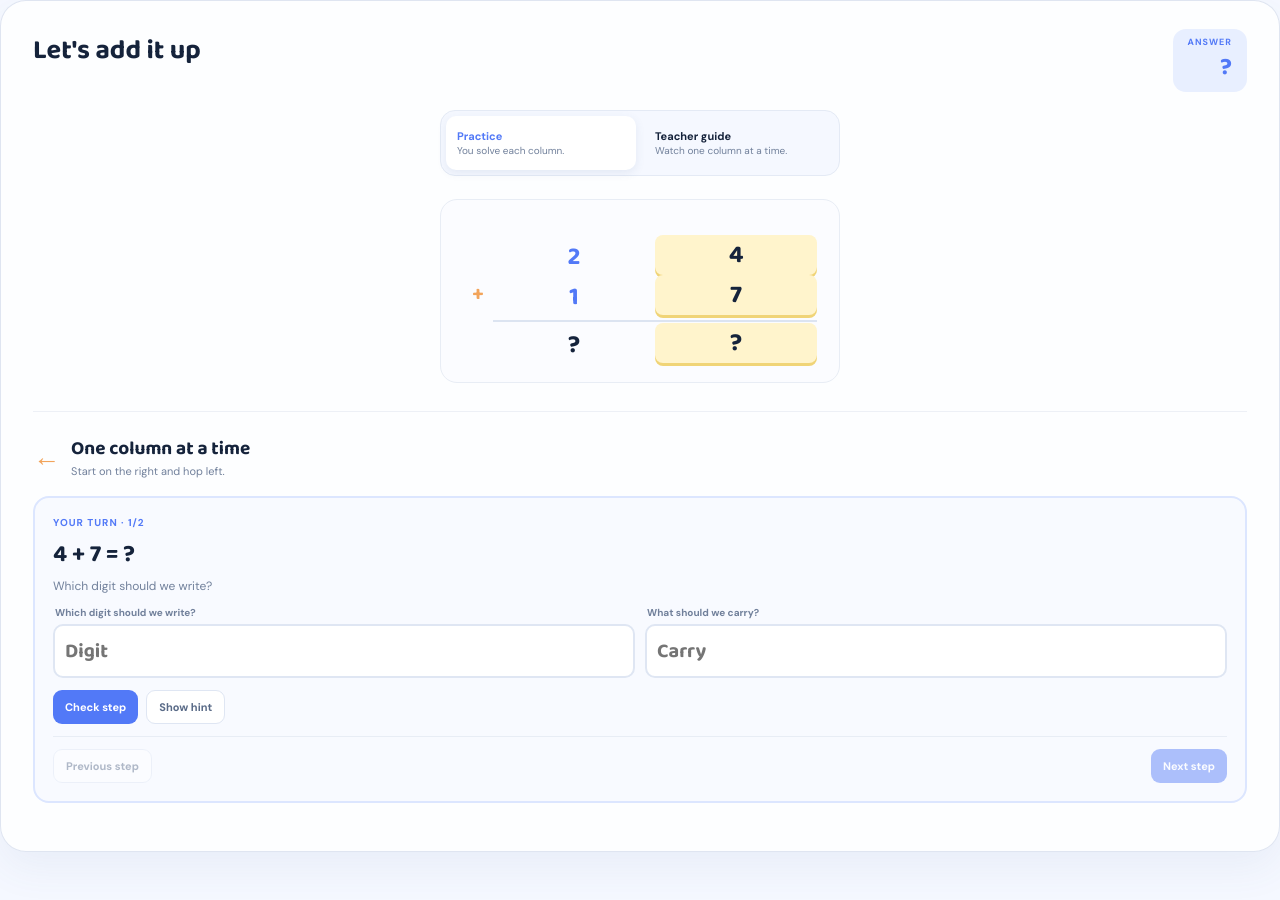
ResultPanel guided flow › can reveal the answer and complete the exercise
What coordinates should you click on to do the following:
click the button "Show hint"
I would click on:
 (186, 707)
Its box is [146,690,225,724].
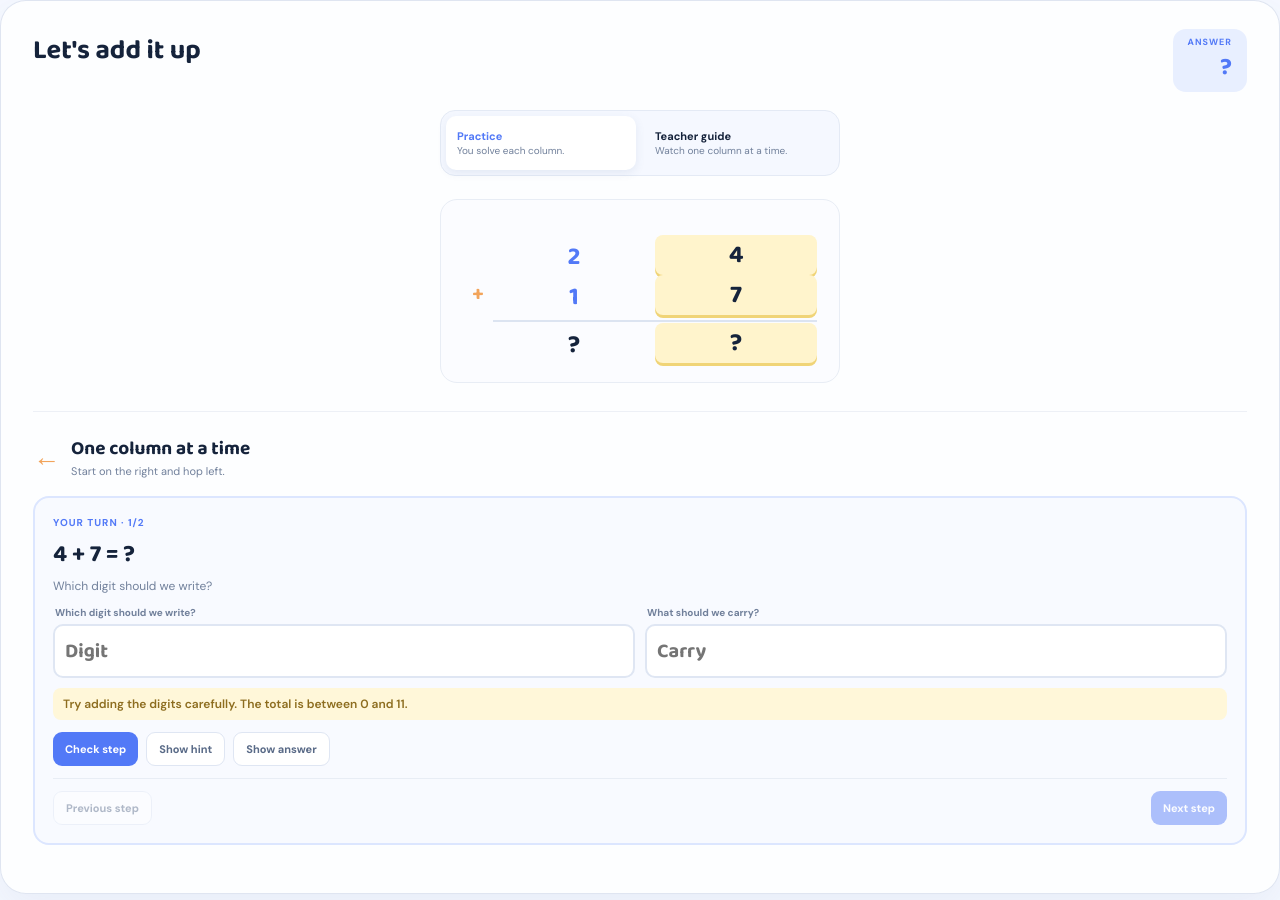
What coordinates should you click on to do the following:
click the button "Show answer"
I would click on:
 (281, 749)
Its box is [233,732,330,766].
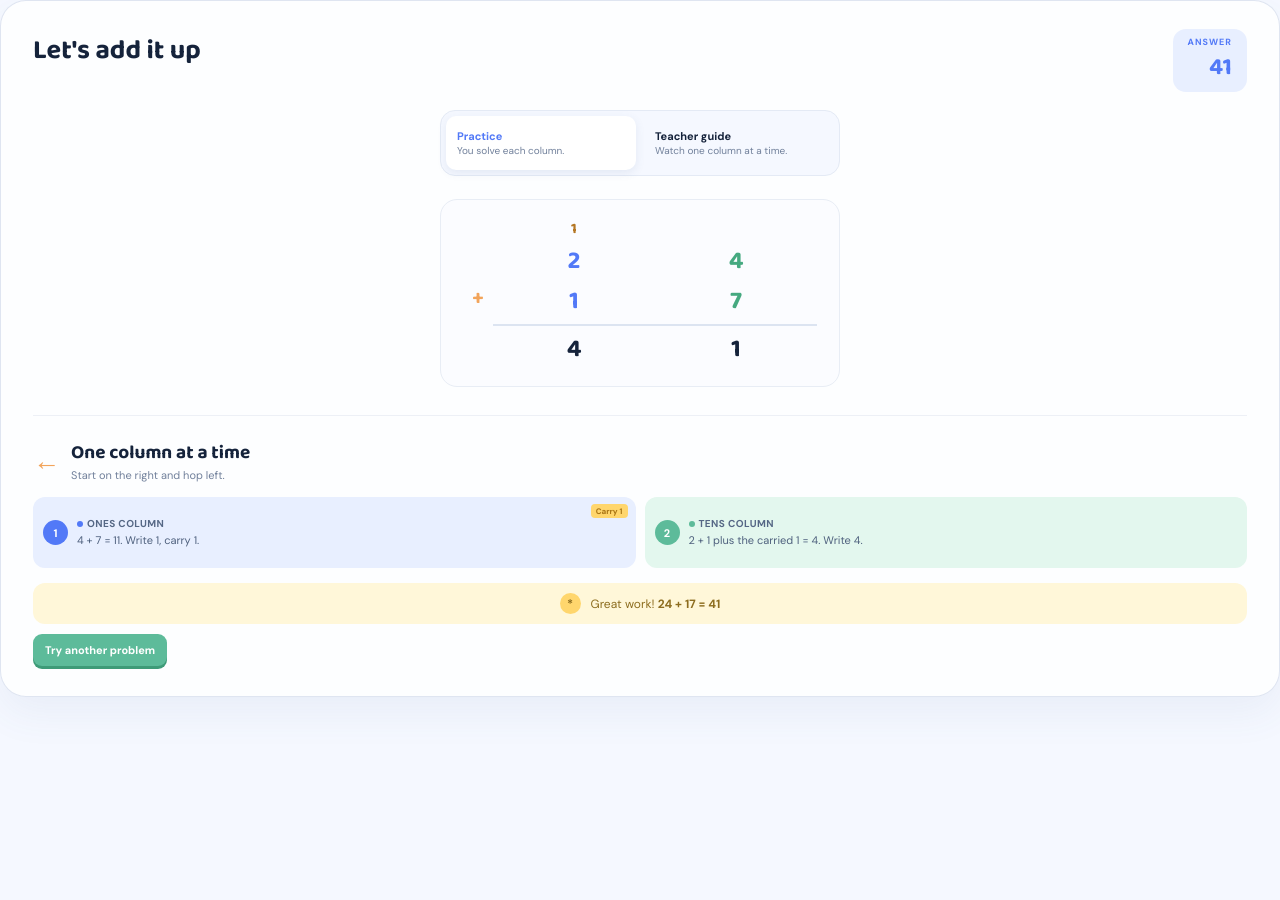
Check: the text "Great work!" is shown, box [590,596,654,612]
Check: the text "24 + 17 = 41" is shown, box [658,596,720,612]
